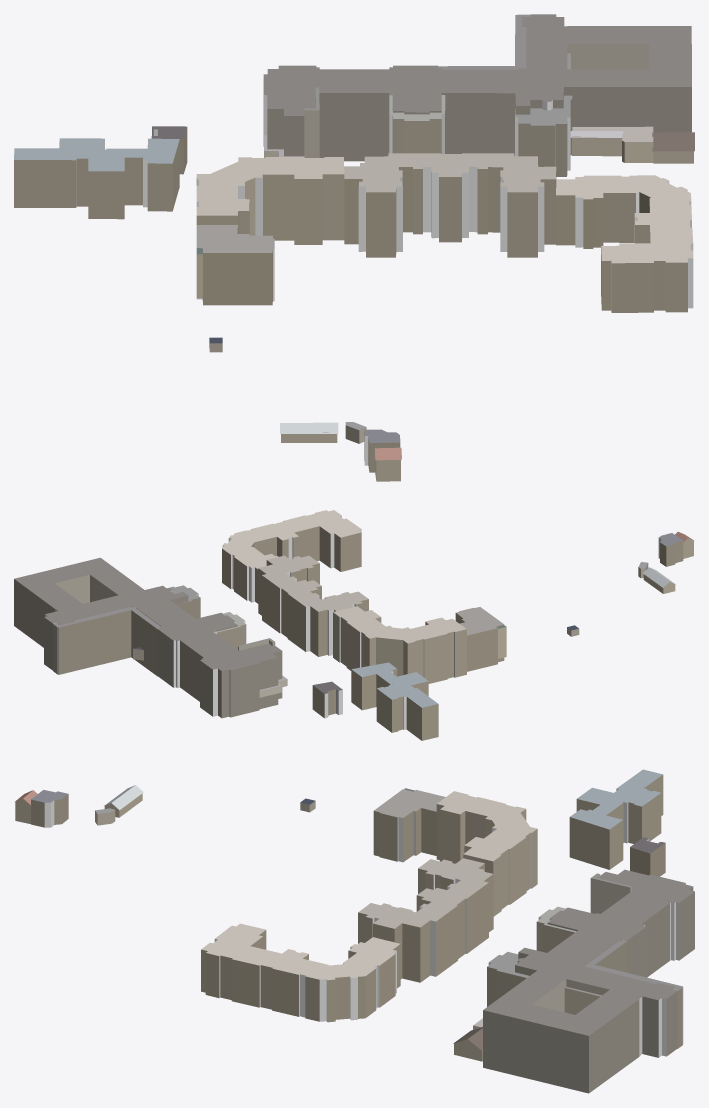
3 views of the same model, one above another, from view 1: azimuth 30°, elevation 25°; view 2: azimuth 150°, elevation 25°; view 3: azimuth 270°, elevation 25° (orthographic). The views are drawn at different scales.
Parts seen in each view (by area): view 1: tuile; view 2: tuile; view 3: tuile.
Part boxes in pixels (x1=…): tuile: x1=14, y1=14, x2=694, y2=481; tuile: x1=14, y1=510, x2=693, y2=740; tuile: x1=15, y1=769, x2=694, y2=1093.
Bounding box in the file's own units: 263 × 28.53 × 268.
